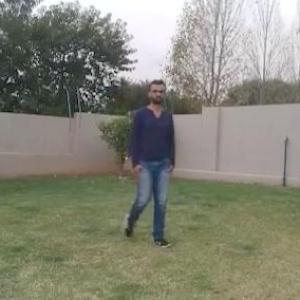follow: (134, 82, 173, 236)
